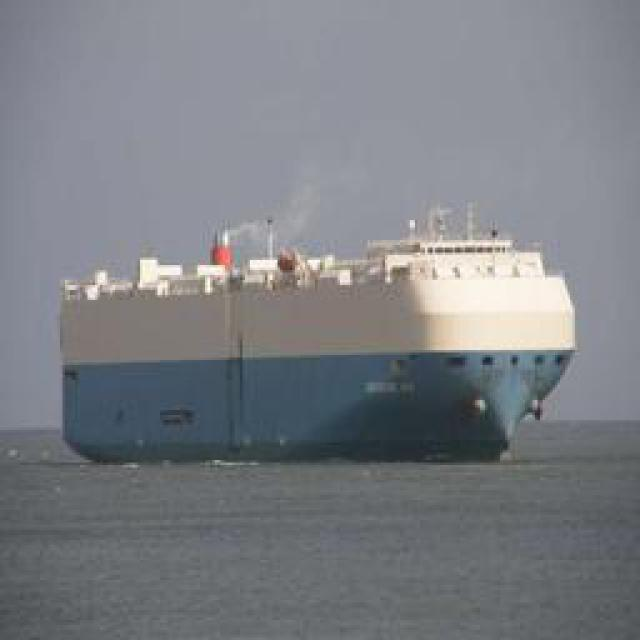Ship: (55, 212, 573, 465)
